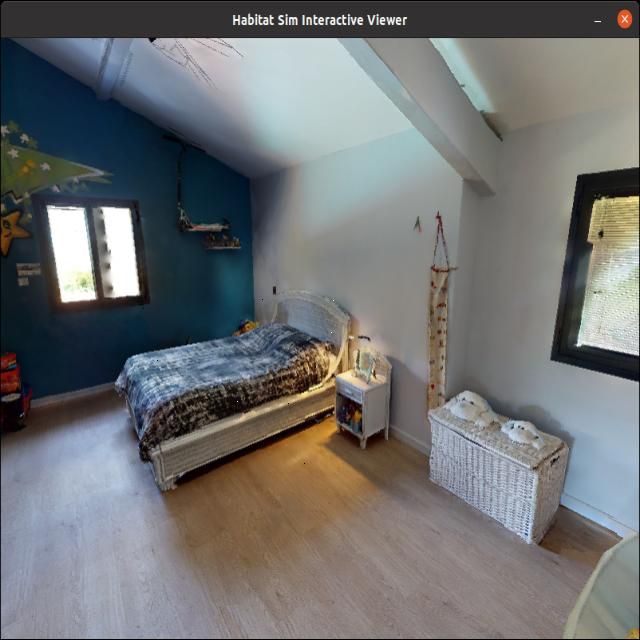bed: (107, 295, 366, 469)
